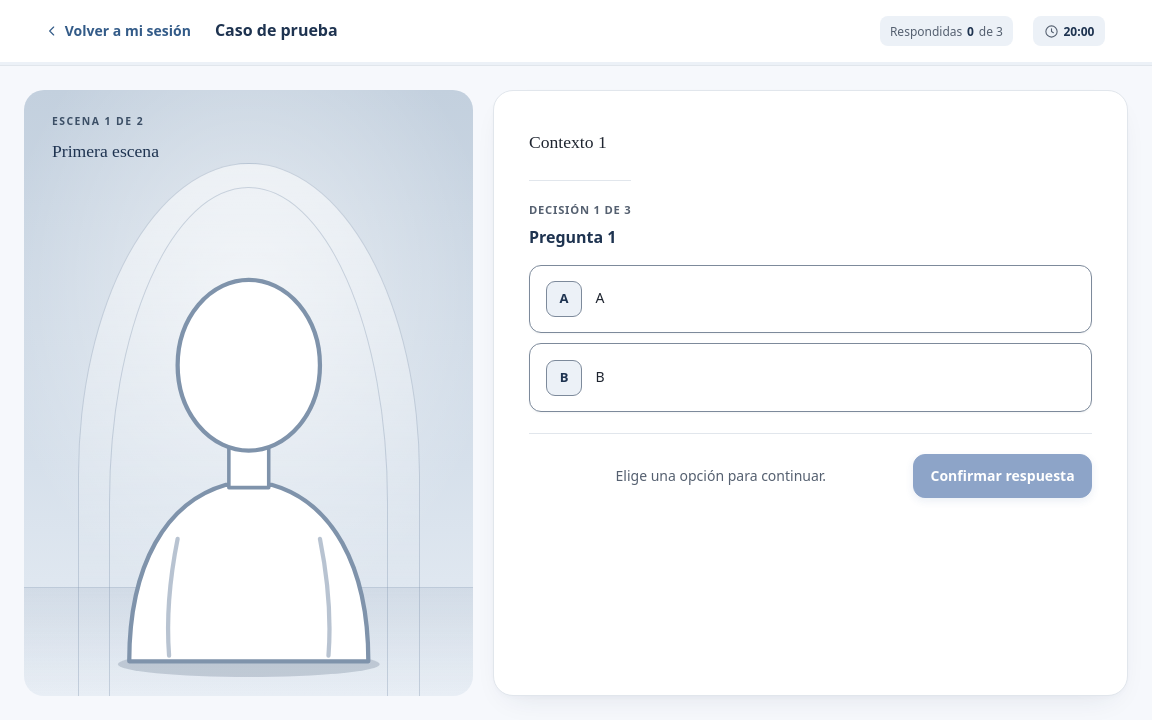
Test: simulador › confirma una sola vez, conserva la selección ante un error y avanza solo con la confirmación del servidor
The image size is (1152, 720).
Later steps or results of the test are not shown.
expect the button "Confirmar respuesta" is disabled: met, box x1=913 y1=454 x2=1092 y2=498
expect the text "Pregunta 1" is shown: met, box x1=529 y1=226 x2=616 y2=248
Click the radio button named "Opción B": (564,378) x1=529 y1=343 x2=1092 y2=412
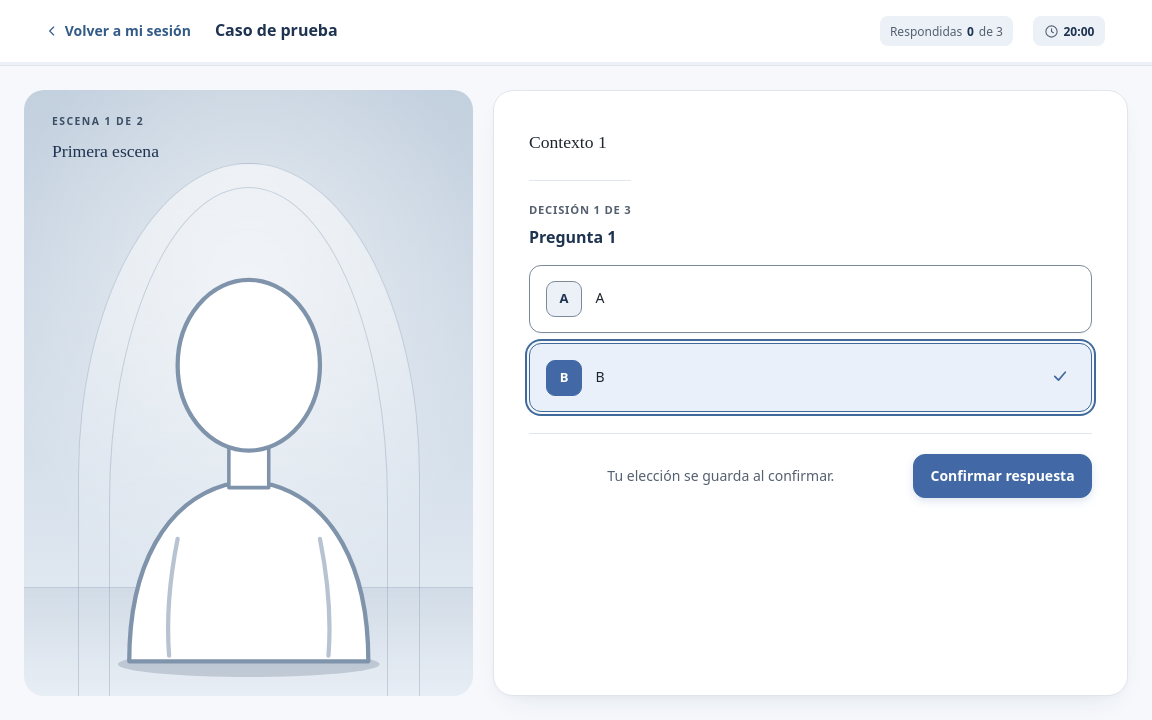
Double-click the button "Confirmar respuesta": (1003,476) x1=913 y1=454 x2=1092 y2=498
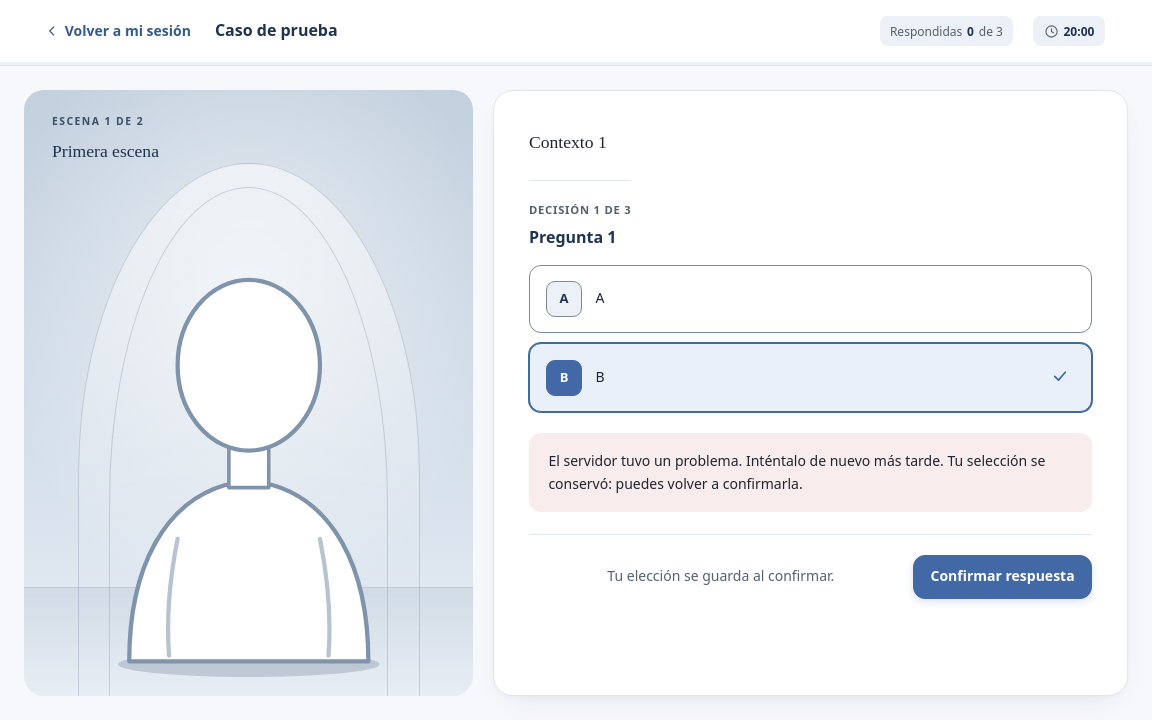
expect the text "Pregunta 1" is shown: met, box x1=529 y1=226 x2=616 y2=248
expect the radio button named "Opción B" is checked: met, box x1=529 y1=343 x2=1092 y2=412
expect the message shows "Tu selección se conservó": met, box x1=548 y1=451 x2=1045 y2=493
Click the button "Confirmar respuesta": (1003,577) x1=913 y1=555 x2=1092 y2=599
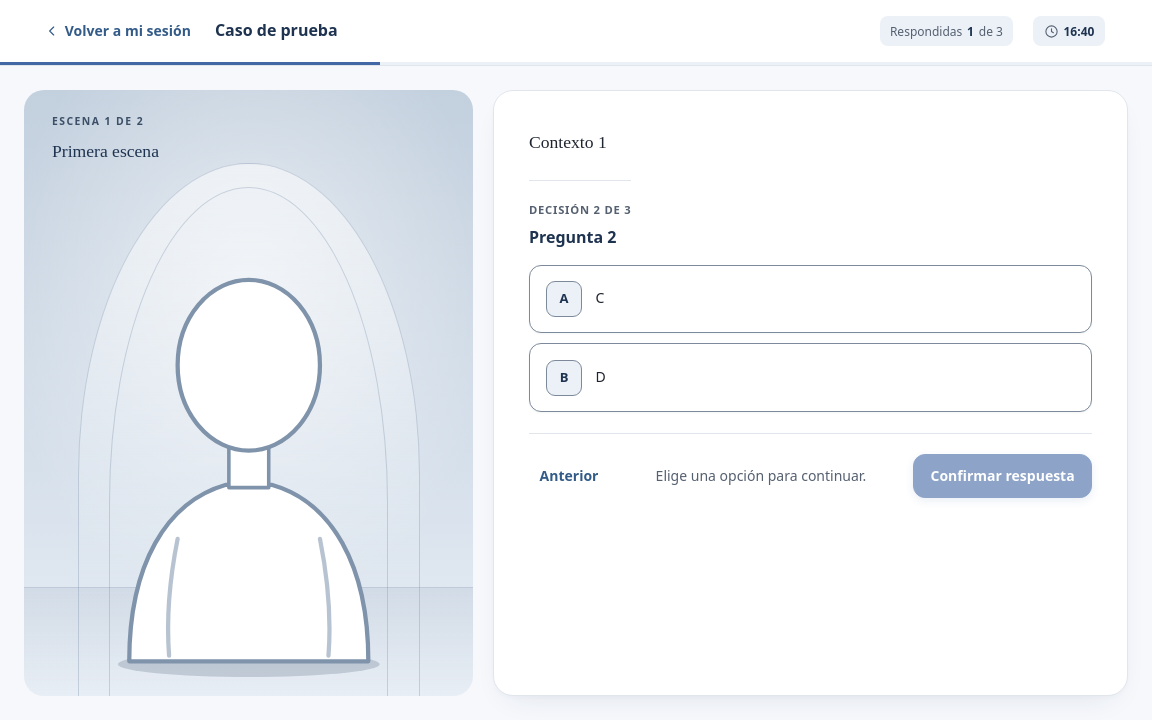
expect the text "Pregunta 2" is shown: met, box x1=529 y1=226 x2=616 y2=248
